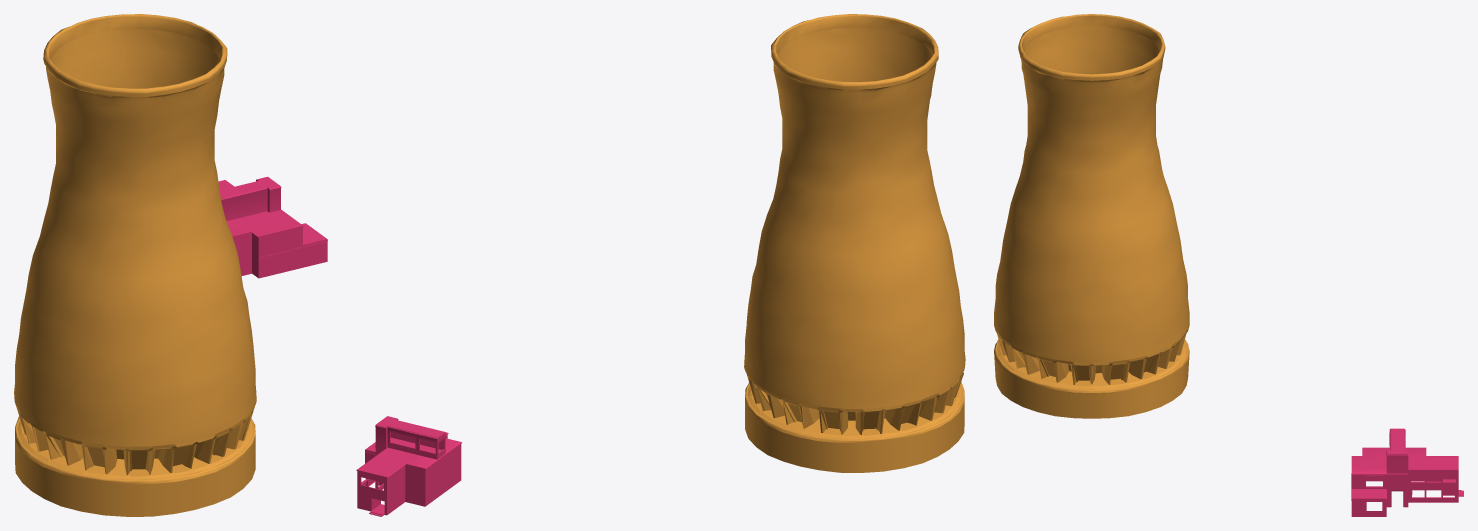
File: ExteriorBuilding.fbx
3 views of the same model, side by side, from view 1: azimuth 30°, elevation 25°; view 2: azimuth 150°, elevation 25°; view 3: azimuth 270°, elevation 25° (orthographic). The views are drawn at different scales.
Parts seen in each view (by area): view 1: Cooling_Tower, Exterior_Building; view 2: Cooling_Tower, Exterior_Building; view 3: Cooling_Tower, Exterior_Building.
Part boxes in pixels (x1,y1,x2,y2): Cooling_Tower: (14, 14, 256, 516); Exterior_Building: (218, 176, 327, 278); Cooling_Tower: (744, 14, 965, 472); Exterior_Building: (356, 416, 462, 516); Cooling_Tower: (994, 14, 1189, 418); Exterior_Building: (1351, 428, 1463, 516).
Size of the model in its own units: 27923 by 24100 by 30752.
